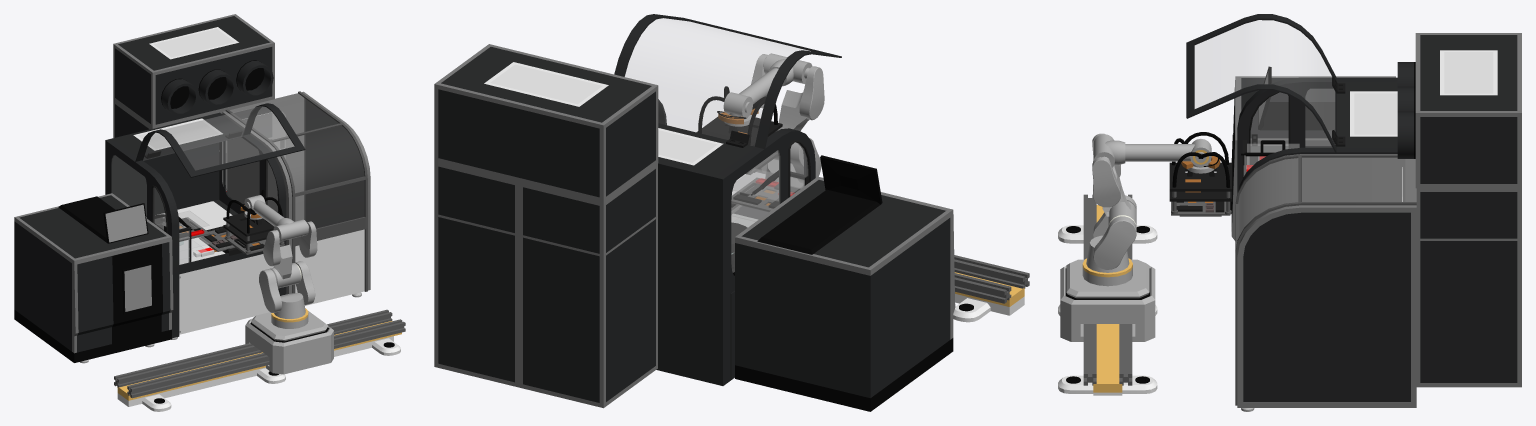
The model's file is machine_010.gltf.
3 renders of one model, left to right at view 1: azimuth 30°, elevation 25°; view 2: azimuth 150°, elevation 25°; view 3: azimuth 270°, elevation 25°, orthographic. The views are drawn at different scales.
Parts seen in each view (by area): view 1: Cube.097, Cube.018, Cube.006, Cube.045, Cube.020, Cube.168, Cube.102, Cube.101, Cube.103, Cube.036, Cube.038, Cube.009 (+24 smaller); view 2: Cube.045, Cube.097, Cube.018, Cube.020, Cube.098, Cube.038, Cube.009, Cube.080, Cube.007, Cube.102, Cube.320, Cube.101 (+10 smaller); view 3: Cube.006, Cube.045, Cube.020, Cube.168, Cube.018, Cube.097, Cube.038, Cube.009, Cube.007, Cube.103, Cylinder.109, Cube.102 (+15 smaller).
Boxes of the visible parts, x1,y1,x2,y2 form: Cube.097: (14, 193, 173, 362); Cube.018: (105, 112, 286, 338); Cube.006: (222, 91, 370, 305); Cube.045: (113, 14, 274, 199); Cube.020: (135, 103, 305, 177); Cube.168: (245, 311, 333, 374); Cube.102: (127, 319, 405, 398); Cube.101: (114, 309, 392, 387); Cube.103: (117, 321, 401, 406); Cube.036: (225, 109, 365, 293); Cube.038: (111, 155, 165, 230); Cube.009: (149, 27, 238, 59); Cube.045: (434, 44, 658, 408); Cube.097: (735, 176, 955, 411); Cube.018: (656, 99, 815, 385); Cube.020: (614, 14, 841, 148); Cube.098: (757, 189, 880, 254); Cube.038: (731, 142, 808, 272); Cube.009: (484, 62, 608, 106); Cube.080: (820, 155, 882, 204); Cube.007: (658, 128, 723, 165); Cube.102: (954, 255, 1029, 288); Cube.320: (731, 178, 800, 211); Cube.101: (954, 273, 1011, 303); Cube.006: (1237, 154, 1416, 411); Cube.045: (1397, 33, 1521, 387); Cube.020: (1186, 14, 1336, 152); Cube.168: (1060, 259, 1155, 341); Cube.018: (1237, 77, 1397, 192); Cube.097: (1230, 76, 1395, 240); Cube.038: (1251, 89, 1334, 152); Cube.009: (1440, 50, 1497, 95); Cube.007: (1350, 91, 1397, 136); Cube.103: (1093, 205, 1122, 395); Cylinder.109: (1093, 216, 1136, 269); Cube.102: (1083, 194, 1096, 385).
Bounding box in the file's own units: 6.07 × 4.13 × 6.12.
